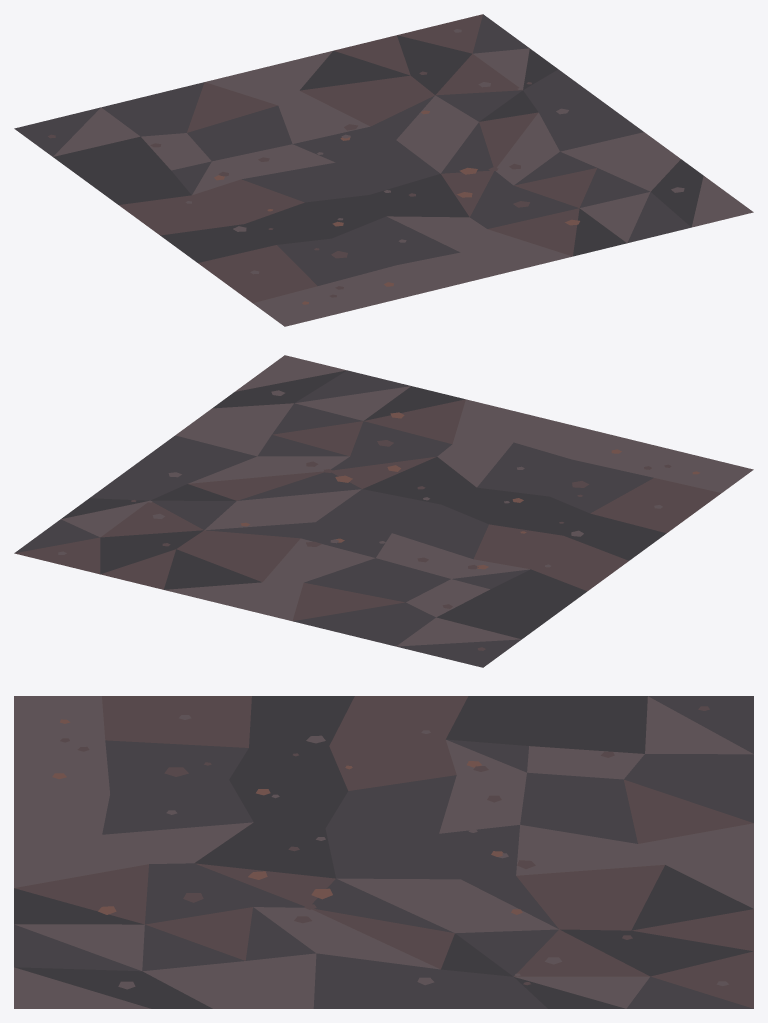
The model's file is 16_Scorched_Ash.fbx.
3 views of the same model, one above another, from view 1: azimuth 30°, elevation 25°; view 2: azimuth 150°, elevation 25°; view 3: azimuth 270°, elevation 25° (orthographic). The views are drawn at different scales.
Parts seen in each view (by area): view 1: 16_Scorched_Ash; view 2: 16_Scorched_Ash; view 3: 16_Scorched_Ash.
Part boxes in pixels (x1,y1,x2,y2): 16_Scorched_Ash: [14, 14, 753, 326]; 16_Scorched_Ash: [14, 355, 753, 667]; 16_Scorched_Ash: [14, 696, 753, 1008].
Bounding box in the file's own units: 800 × 0.9001 × 800.
1 material, 1 textured.
